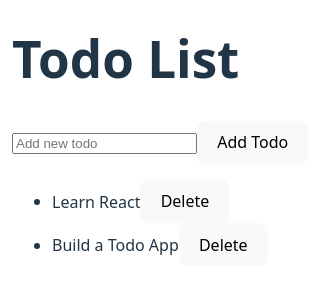
Scenario: TodoList Component › adds a new todo
Type "New Task" into the field with test id "new-todo-input" at (104, 144), box [12,133,197,154]
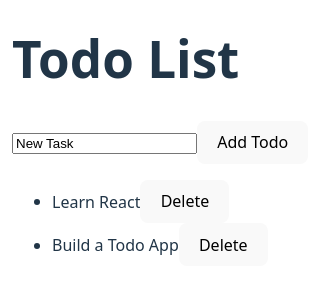
Click the button with test id "add-todo-button" at (253, 142), box [197,121,308,164]
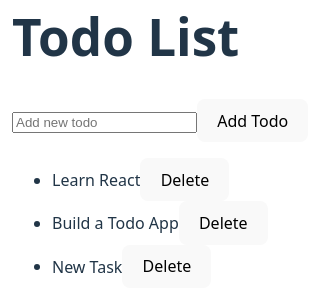
Expected: the text "New Task" is shown, [52,255,122,277]
